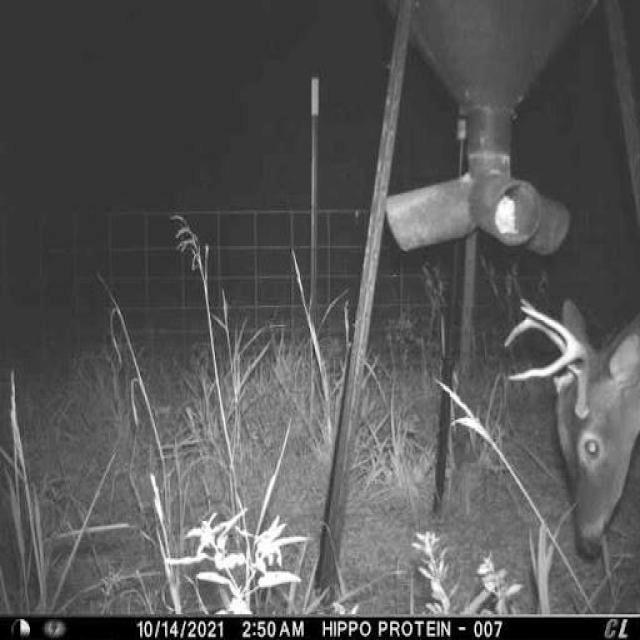Deer: (494, 288, 638, 566)
